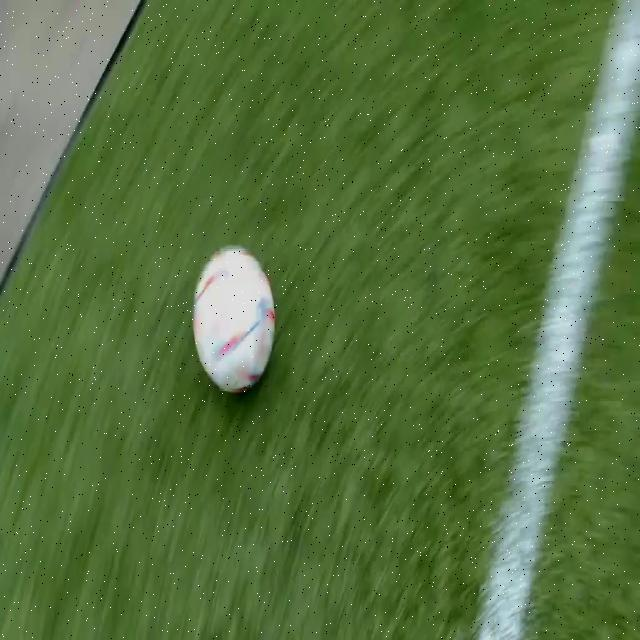ball: (193, 244, 275, 394)
